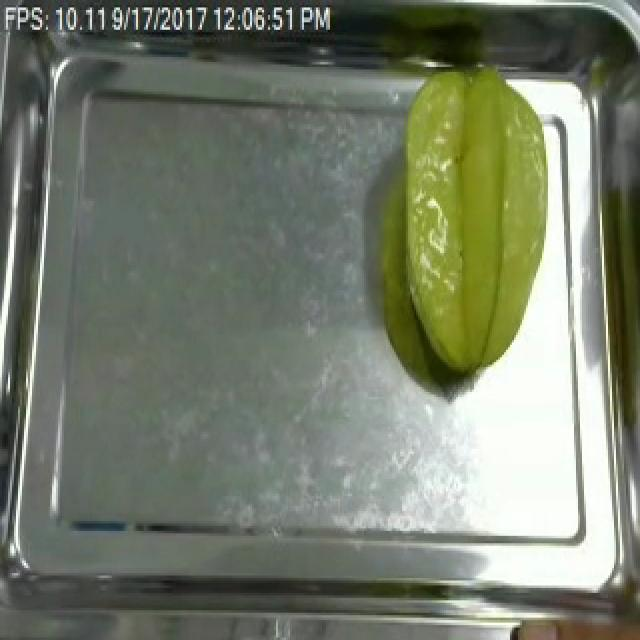fruit: (390, 57, 558, 390)
